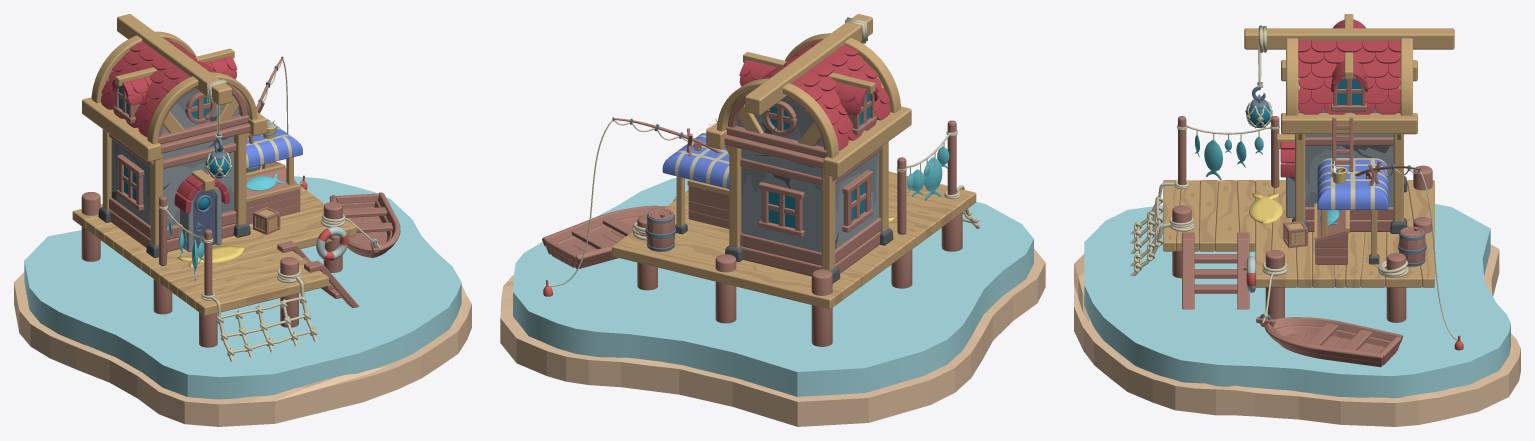
Rendered from dock.glb.
3 views of the same model, side by side, from view 1: azimuth 30°, elevation 25°; view 2: azimuth 150°, elevation 25°; view 3: azimuth 270°, elevation 25° (orthographic). The views are drawn at different scales.
Visible parts, largest first — view 1: Cube.045_0, Cube.046_1, Plane_161, Cube_10, Plane.004_39, Cube.004_28, Cylinder.006_32, Cube.008_34, Cube.005_29, Plane.001_19, Cube.024_90, Cube.001_20 (+28 smaller); view 2: Cube.045_0, Cube.046_1, Plane_161, Cube_10, Plane.004_39, Cube.004_28, Cylinder.006_32, Cube.008_34, Cube.005_29, Plane.001_19, Cube.001_20, Cube.043_159 (+26 smaller); view 3: Cube.045_0, Cube.046_1, Plane_161, Plane.004_39, Plane.001_19, Cube.008_34, Cube.001_20, Cube.005_29, Cube_10, Cylinder.006_32, Cube.030_108, Cube.004_28 (+22 smaller).
Boxes of the visible parts, x1,y1,x2,y2 form: Cube.045_0: [24, 176, 461, 399]; Cube.046_1: [14, 272, 471, 426]; Plane_161: [72, 165, 356, 315]; Cube_10: [111, 109, 233, 226]; Plane.004_39: [101, 38, 217, 137]; Cube.004_28: [102, 129, 246, 245]; Cylinder.006_32: [91, 31, 257, 143]; Cube.008_34: [117, 14, 232, 105]; Cube.005_29: [82, 97, 267, 161]; Plane.001_19: [329, 192, 400, 257]; Cube.024_90: [246, 168, 300, 224]; Cube.001_20: [246, 119, 302, 168]; Cube.045_0: [513, 178, 1033, 396]; Cube.046_1: [500, 248, 1045, 426]; Plane_161: [611, 171, 976, 309]; Cube_10: [741, 119, 878, 252]; Plane.004_39: [761, 40, 890, 150]; Cube.004_28: [729, 142, 888, 270]; Cylinder.006_32: [717, 33, 900, 158]; Cube.008_34: [745, 14, 872, 115]; Cube.005_29: [706, 106, 911, 177]; Plane.001_19: [542, 205, 666, 268]; Cube.001_20: [662, 133, 729, 188]; Cube.043_159: [758, 182, 804, 237]; Cube.045_0: [1084, 204, 1510, 398]; Cube.046_1: [1074, 244, 1520, 426]; Plane_161: [1163, 180, 1434, 287]; Plane.004_39: [1298, 40, 1400, 114]; Plane.001_19: [1264, 317, 1403, 367]; Cube.008_34: [1244, 28, 1454, 49]; Cube.001_20: [1317, 158, 1388, 209]; Cube.005_29: [1281, 60, 1417, 134]; Cube_10: [1305, 112, 1393, 206]; Cylinder.006_32: [1286, 38, 1412, 115]; Cube.030_108: [1182, 232, 1249, 309]; Cube.004_28: [1295, 134, 1403, 221].
Size of the model in its own units: 9.23 by 6.14 by 9.06.
